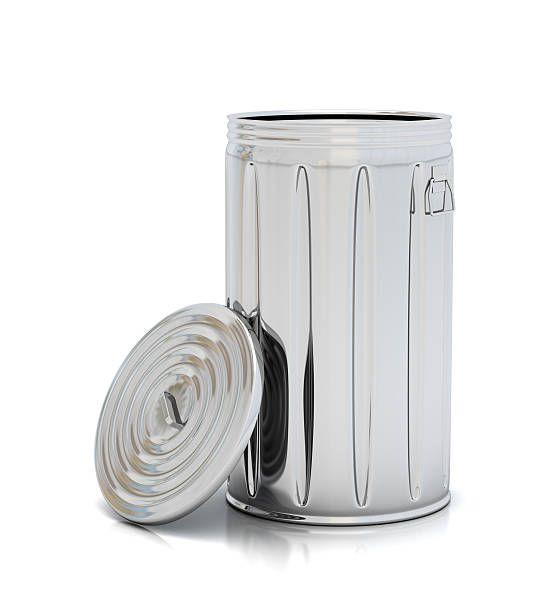metal: (230, 118, 447, 519), (90, 298, 264, 527)
